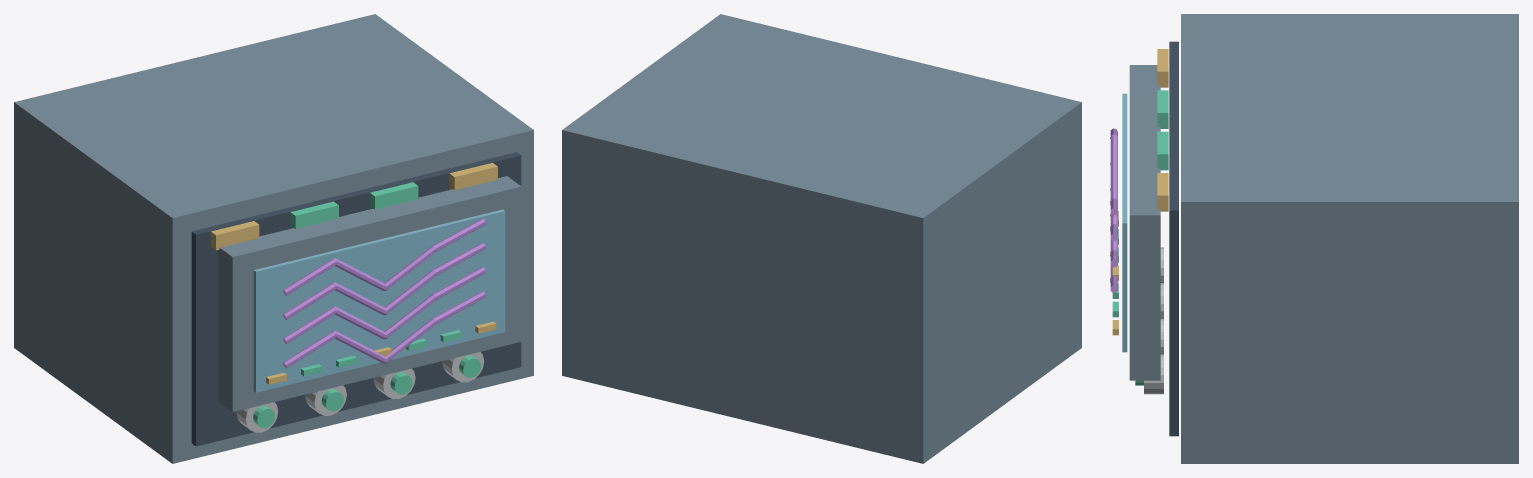
File: 28_L81_HolographicCheckpointJournal.glb
3 views of the same model, side by side, from view 1: azimuth 30°, elevation 25°; view 2: azimuth 150°, elevation 25°; view 3: azimuth 270°, elevation 25° (orthographic). The views are drawn at different scales.
Parts seen in each view (by area): view 1: HolographicCheckpointJournal_Node_0000, HolographicCheckpointJournal_Node_0007, HolographicCheckpointJournal_Node_0006, HolographicCheckpointJournal_Node_0001, HolographicCheckpointJournal_Node_0002, HolographicCheckpointJournal_Node_0005, HolographicCheckpointJournal_Node_0003, HolographicCheckpointJournal_Node_0004, HolographicCheckpointJournal_Node_0049, HolographicCheckpointJournal_Node_0045, HolographicCheckpointJournal_Node_0047, HolographicCheckpointJournal_Node_0043; view 2: HolographicCheckpointJournal_Node_0000; view 3: HolographicCheckpointJournal_Node_0000, HolographicCheckpointJournal_Node_0006, HolographicCheckpointJournal_Node_0001, HolographicCheckpointJournal_Node_0007, HolographicCheckpointJournal_Node_0030, HolographicCheckpointJournal_Node_0004, HolographicCheckpointJournal_Node_0002, HolographicCheckpointJournal_Node_0003, HolographicCheckpointJournal_Node_0005.
Part boxes in pixels (x1,y1,x2,y2): HolographicCheckpointJournal_Node_0000: (14, 14, 533, 463); HolographicCheckpointJournal_Node_0007: (253, 209, 505, 392); HolographicCheckpointJournal_Node_0006: (218, 176, 521, 411); HolographicCheckpointJournal_Node_0001: (191, 152, 521, 446); HolographicCheckpointJournal_Node_0002: (211, 221, 259, 250); HolographicCheckpointJournal_Node_0005: (449, 162, 497, 190); HolographicCheckpointJournal_Node_0003: (290, 201, 338, 228); HolographicCheckpointJournal_Node_0004: (370, 182, 418, 209); HolographicCheckpointJournal_Node_0049: (442, 352, 484, 382); HolographicCheckpointJournal_Node_0045: (305, 385, 346, 415); HolographicCheckpointJournal_Node_0047: (373, 368, 415, 399); HolographicCheckpointJournal_Node_0043: (236, 402, 278, 432); HolographicCheckpointJournal_Node_0000: (562, 14, 1081, 463); HolographicCheckpointJournal_Node_0000: (1181, 14, 1518, 463); HolographicCheckpointJournal_Node_0006: (1129, 65, 1160, 380); HolographicCheckpointJournal_Node_0001: (1169, 41, 1178, 436); HolographicCheckpointJournal_Node_0007: (1122, 93, 1127, 352); HolographicCheckpointJournal_Node_0030: (1110, 136, 1117, 200); HolographicCheckpointJournal_Node_0004: (1157, 131, 1168, 170); HolographicCheckpointJournal_Node_0002: (1157, 49, 1168, 87); HolographicCheckpointJournal_Node_0003: (1157, 90, 1168, 128); HolographicCheckpointJournal_Node_0005: (1157, 173, 1168, 211).
Bounding box in the file's own units: 1 × 0.65 × 0.919.
